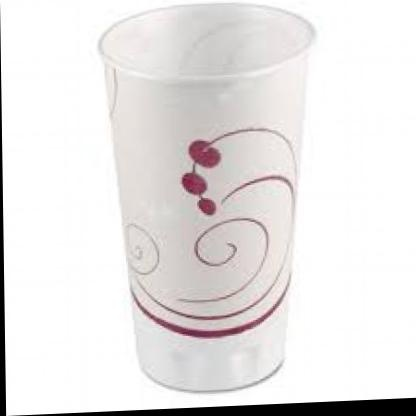trash: (99, 4, 313, 390)
